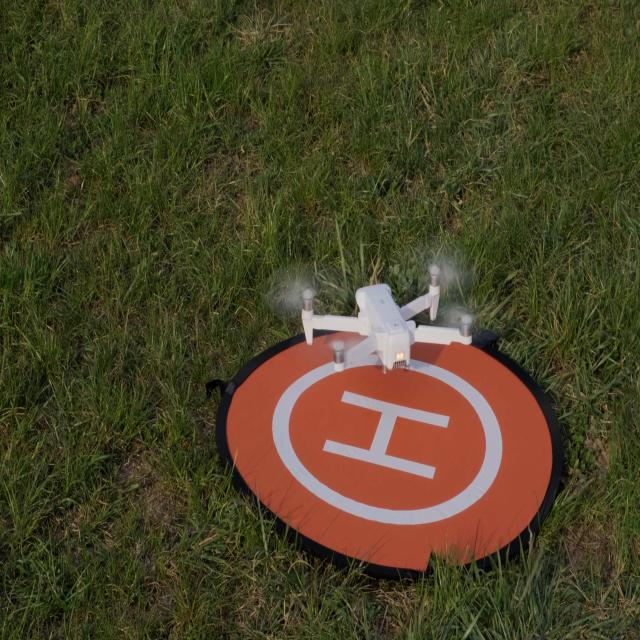drone: (266, 247, 485, 376)
